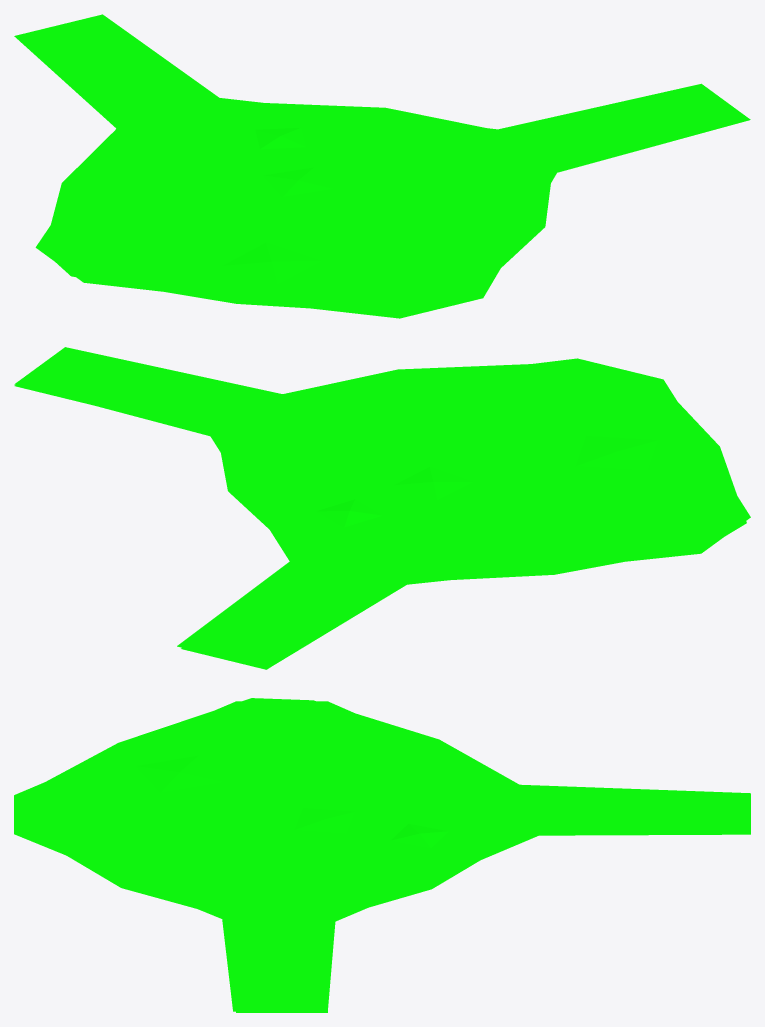
File: s07b_lc1-floor.glb
3 views of the same model, one above another, from view 1: azimuth 30°, elevation 25°; view 2: azimuth 150°, elevation 25°; view 3: azimuth 270°, elevation 25° (orthographic). The views are drawn at different scales.
Visible parts, largest first — view 1: collision_floor-colonly; view 2: collision_floor-colonly; view 3: collision_floor-colonly.
Part boxes in pixels (box(x1,y1,x2,y2)): collision_floor-colonly: box(14, 14, 750, 318); collision_floor-colonly: box(14, 347, 750, 669); collision_floor-colonly: box(14, 698, 750, 1012).
Bounding box in the file's own units: 48.24 × 0.3457 × 47.93.
